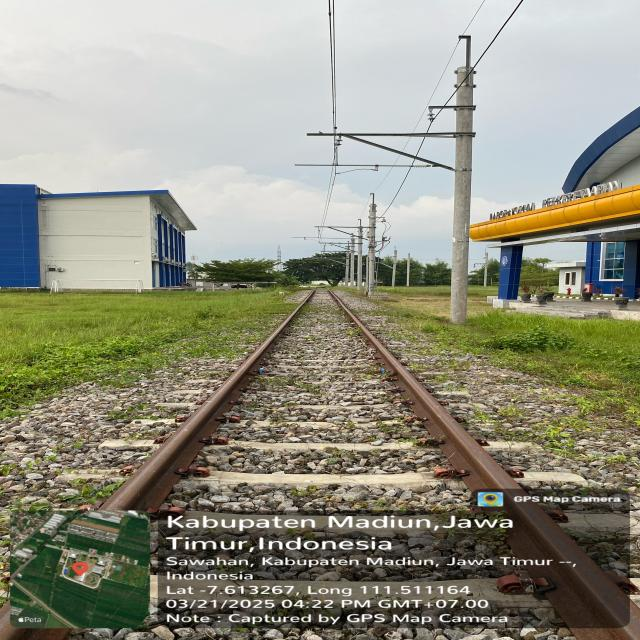rail-detection: (100, 288, 316, 510), (330, 292, 519, 497), (506, 498, 640, 640)
